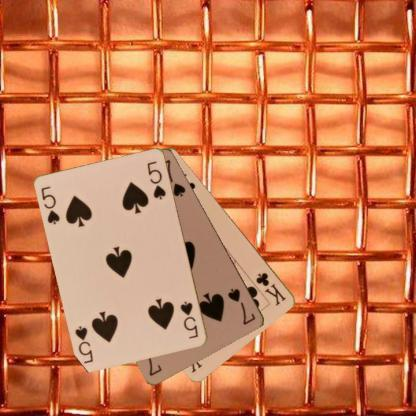5s: (39, 184, 62, 226), (178, 298, 200, 340)
7s: (225, 286, 257, 326)
Kc: (254, 270, 288, 307)
